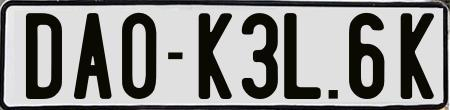0: (122, 12, 160, 101)
3: (239, 13, 276, 104)
6: (349, 12, 384, 103)
A: (74, 10, 116, 96)
D: (24, 12, 61, 102)
K: (399, 12, 433, 98), (199, 11, 232, 99)
L: (283, 10, 324, 102)
